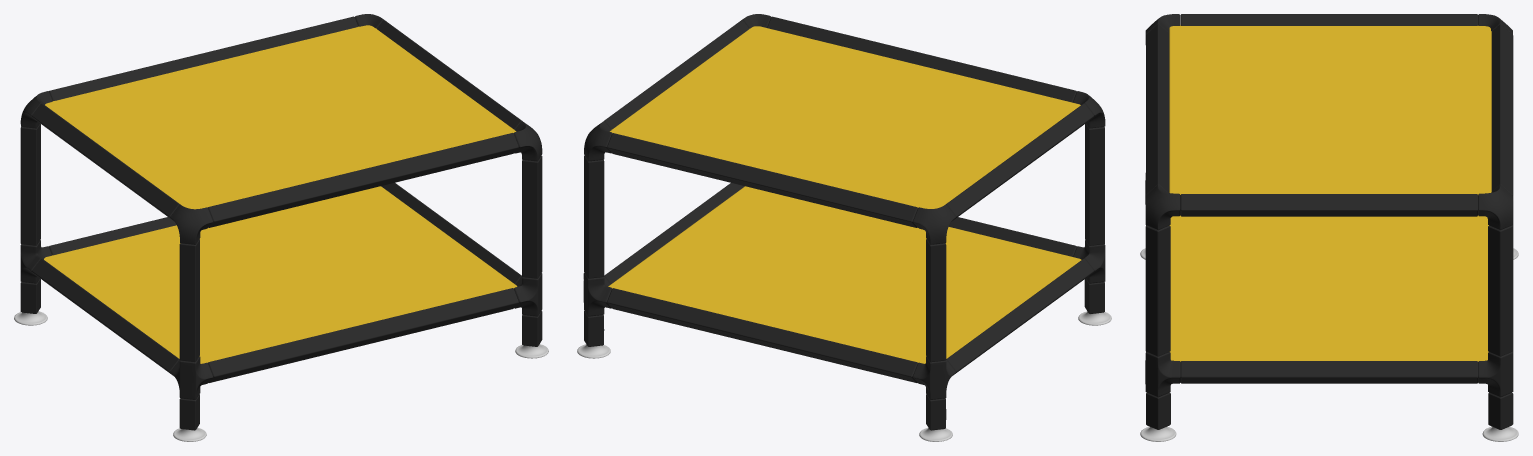
The picture shows the model from 3 angles, left to right: view 1: azimuth 30°, elevation 25°; view 2: azimuth 150°, elevation 25°; view 3: azimuth 270°, elevation 25°; orthographic projection. The views are drawn at different scales.
Visible parts, largest first — view 1: 420x329x154; view 2: 420x329x154; view 3: 420x329x154.
Boxes of the visible parts, x1=… form: 420x329x154: x1=14, y1=14, x2=548, y2=441; 420x329x154: x1=577, y1=14, x2=1111, y2=441; 420x329x154: x1=1140, y1=14, x2=1518, y2=441.
Size of the model in its own units: 0.5099 by 0.2933 by 0.4183.
